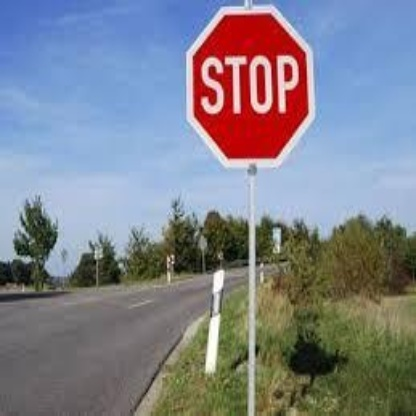stop: (187, 7, 315, 166)
